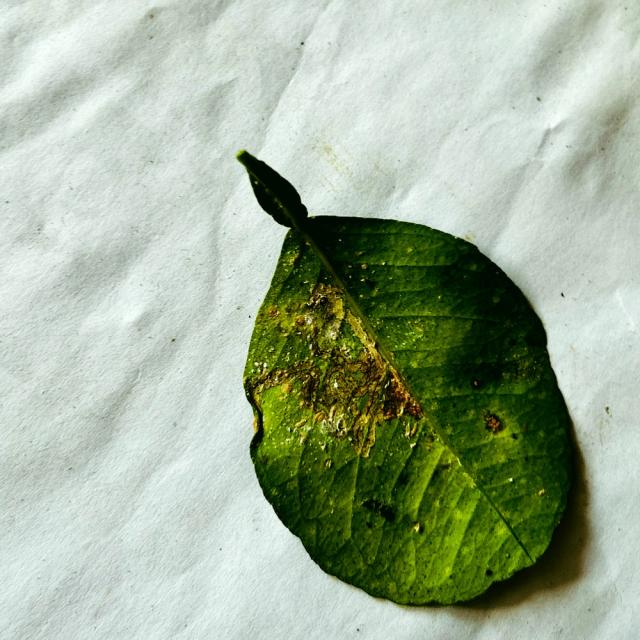Bacterial_Blight: (256, 358, 322, 414), (343, 380, 401, 442), (302, 285, 352, 346), (316, 361, 365, 410), (383, 371, 421, 419), (338, 304, 376, 351), (274, 302, 305, 336), (321, 408, 349, 438), (306, 287, 335, 310)
Lemon: (236, 152, 579, 610)
